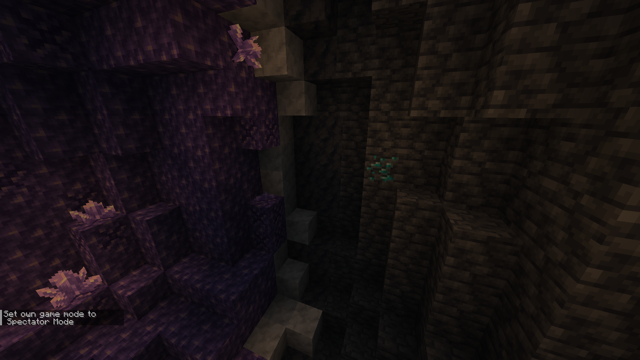diamond: (363, 151, 399, 184)
